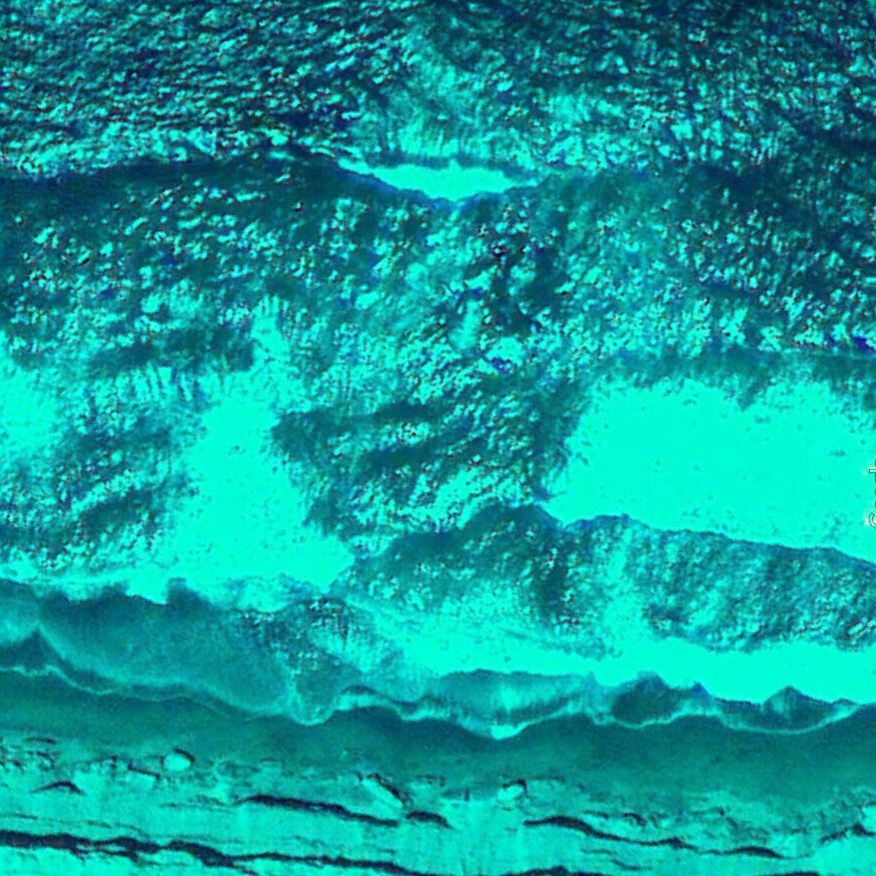rip_current: (200, 185, 672, 643)
